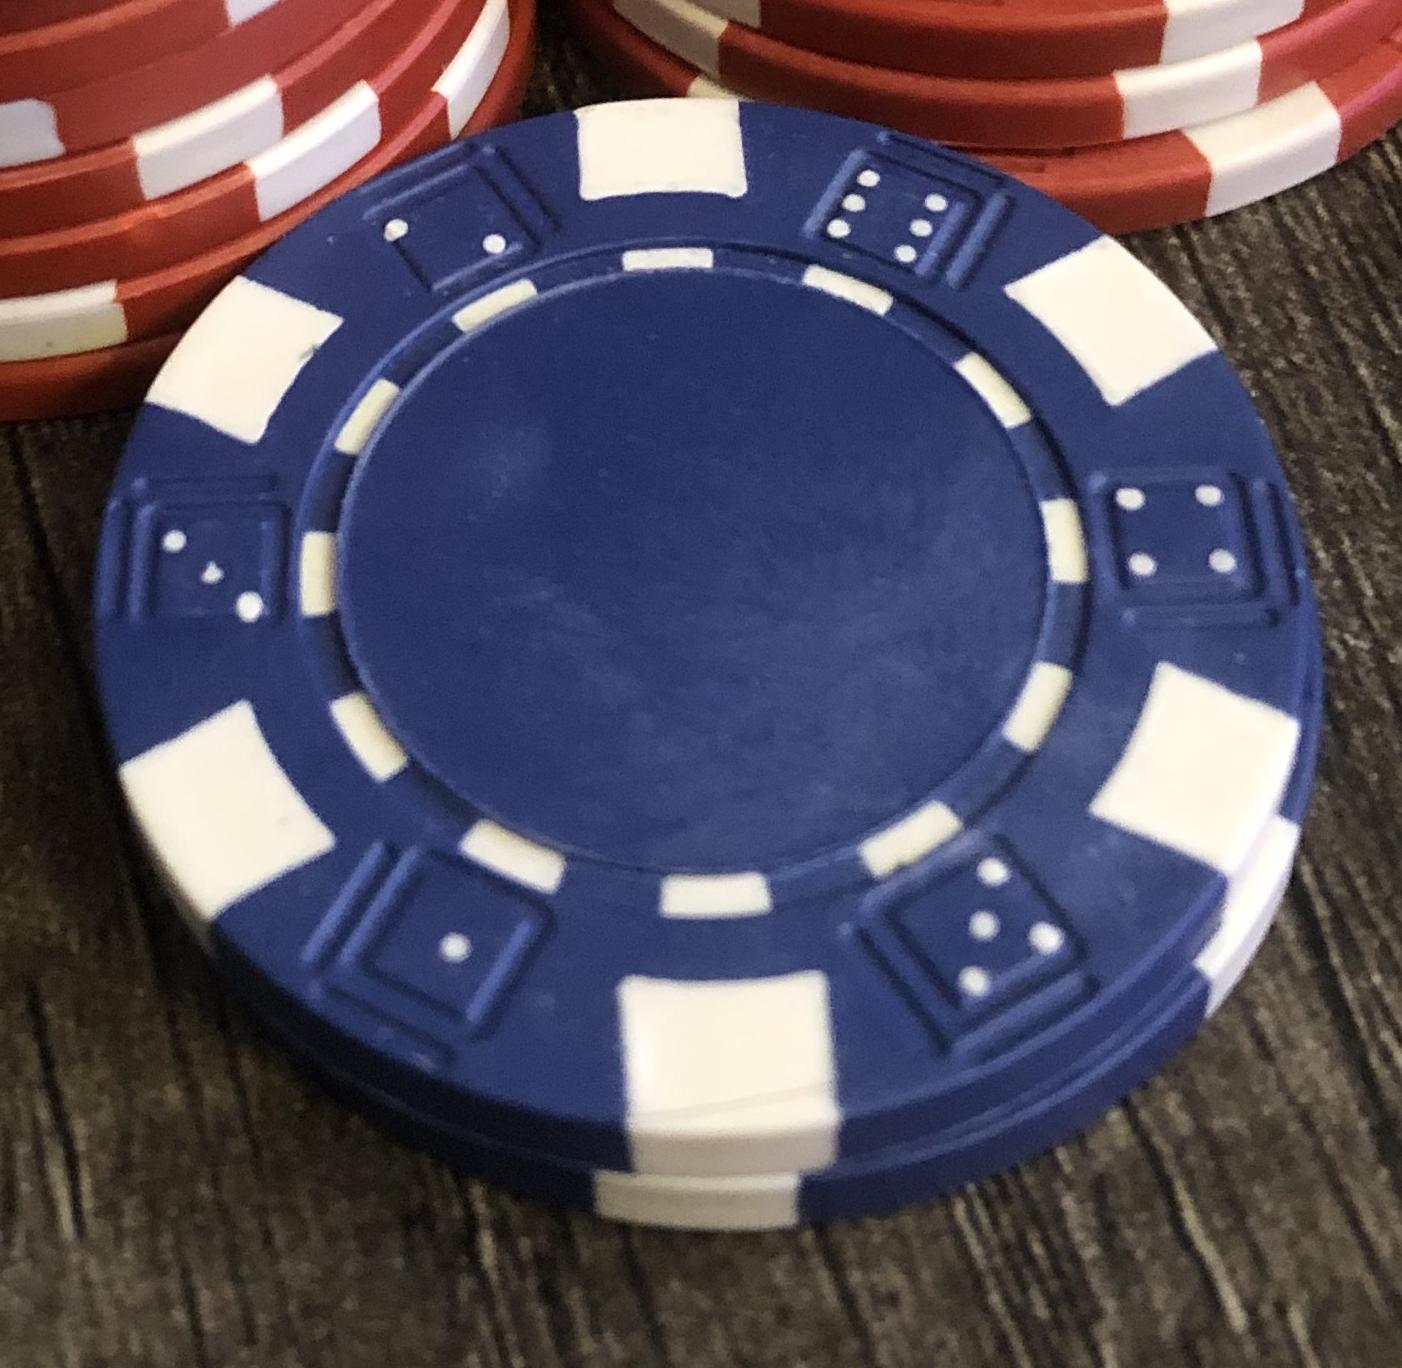Chip: (1, 1, 1402, 1368)
